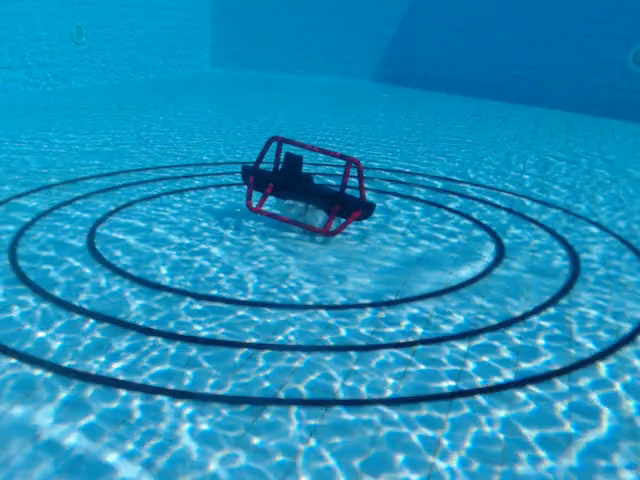submarine: (238, 135, 379, 238)
